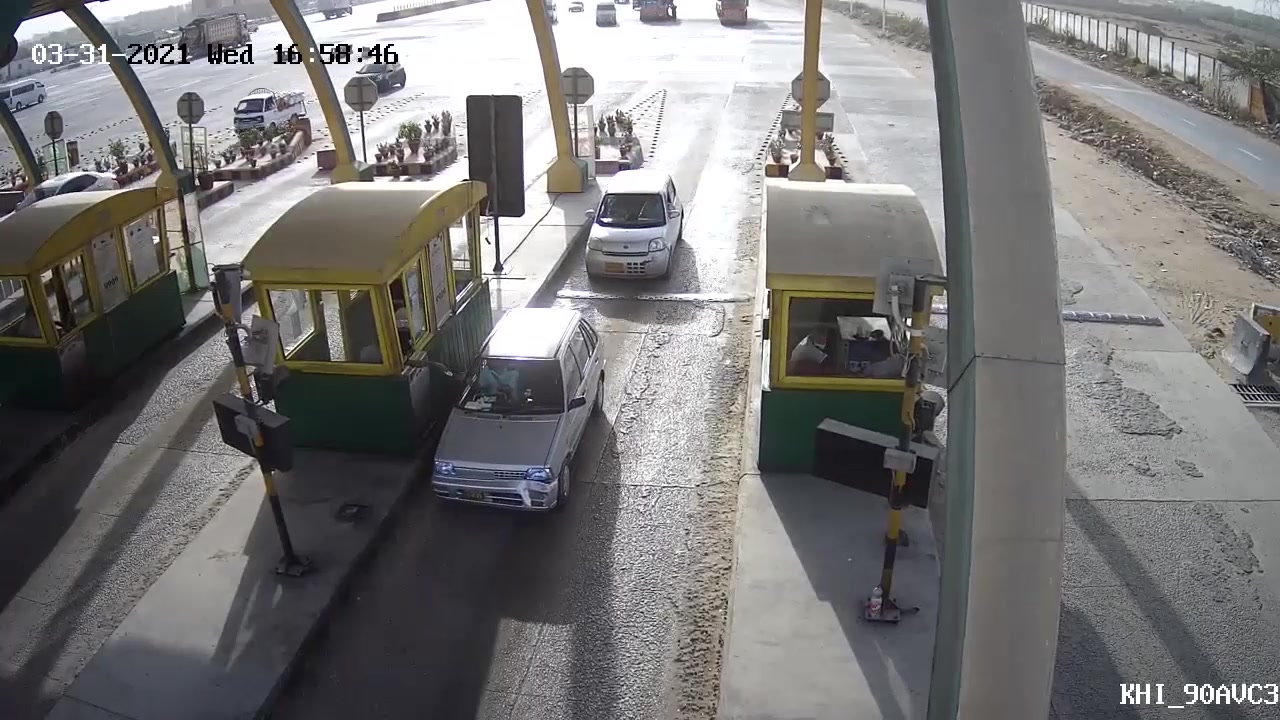F1: (416, 304, 617, 518), (583, 156, 690, 287)
